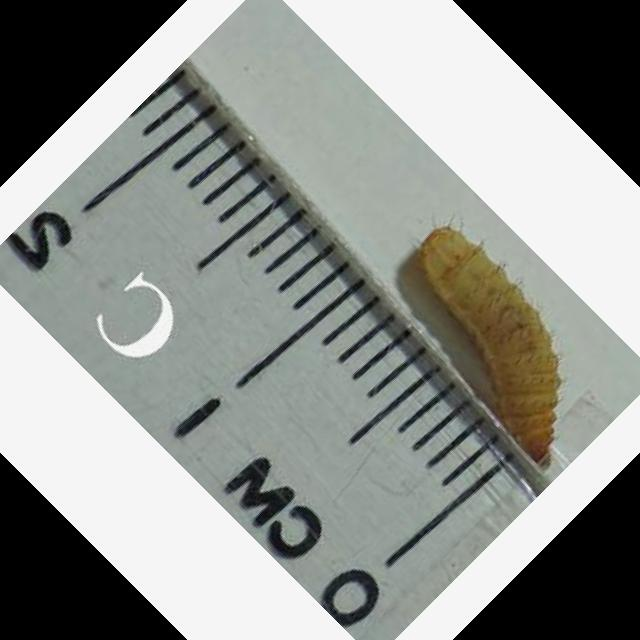Maggot: (414, 222, 563, 462)
